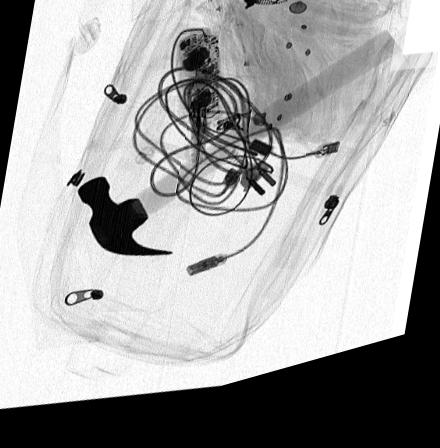Hammer: (76, 48, 402, 263)
